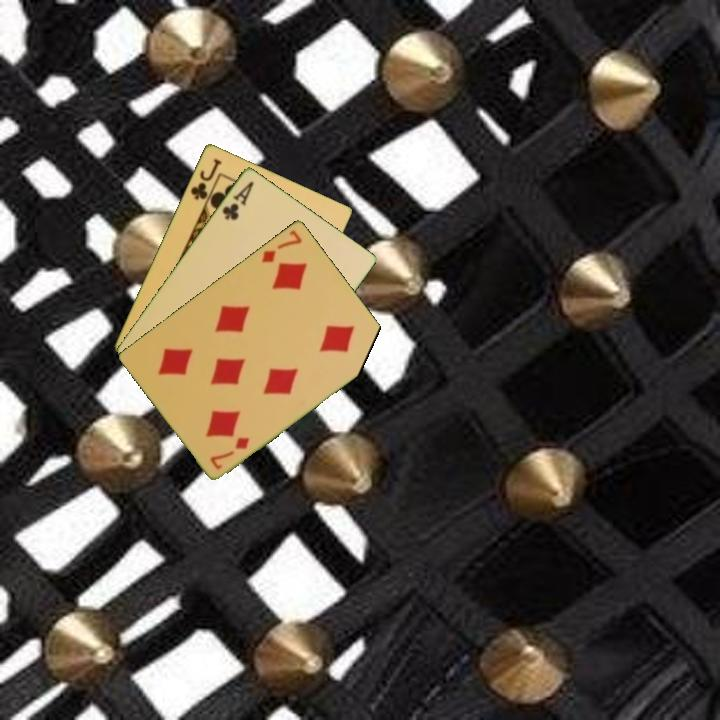7d: (258, 226, 305, 265), (207, 433, 253, 472)
Ac: (218, 177, 257, 223)
Jc: (187, 155, 224, 202)
